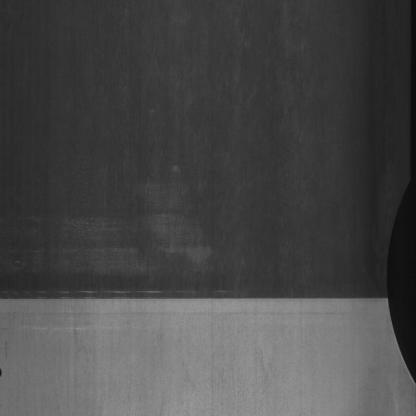punching_hole: (0, 358, 3, 381)
welding_line: (0, 281, 398, 322)
